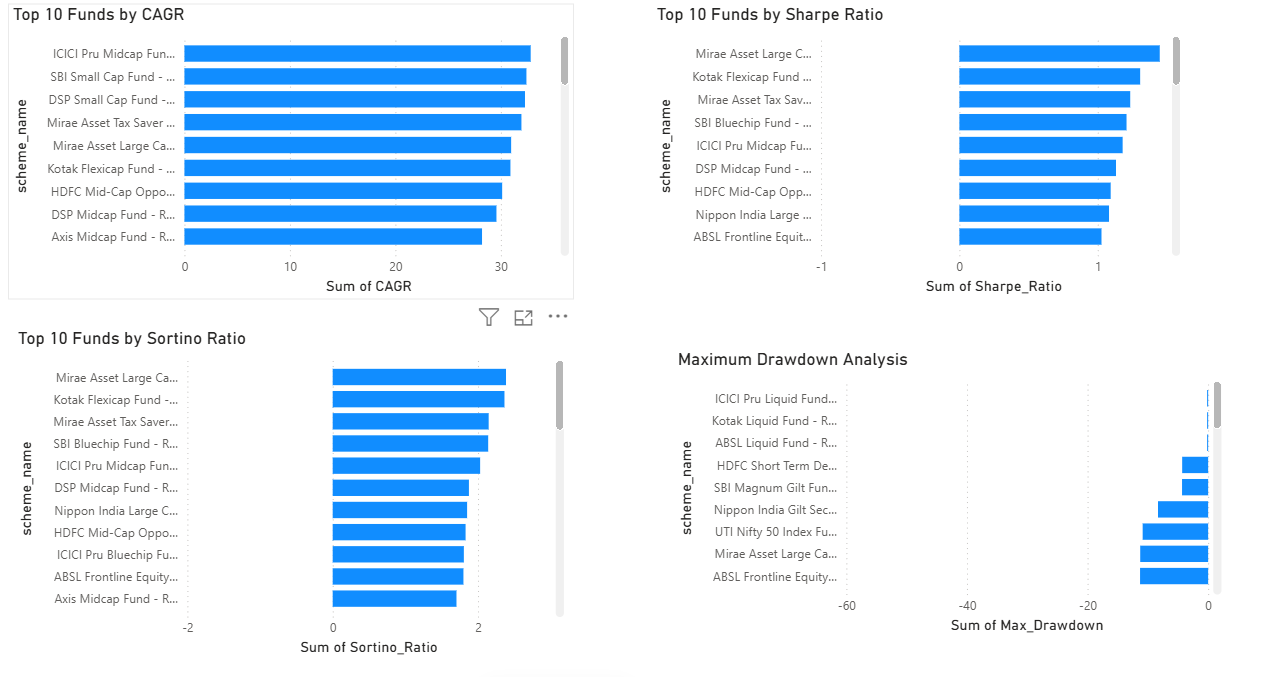

Layout of this report page (visuals, bound fields, positions):
{"tool":"powerbi","page":{"name":"Fund Performance","canvas":[1280,720],"ordinal":2},"visuals":[{"type":"clusteredBarChart","title":"Top 10 Funds by CAGR","fields":{"Category":["cagr_report.scheme_name"],"Y":["Sum(cagr_report.CAGR)"]},"box":[9.8,12.2,553.9,289.8],"z":0},{"type":"clusteredBarChart","title":"Top 10 Funds by Sharpe Ratio","fields":{"Category":["sharpe_report.scheme_name"],"Y":["Sum(sharpe_report.Sharpe_Ratio)"]},"box":[639.5,12.2,522.1,289.8],"z":1},{"type":"clusteredBarChart","title":"Top 10 Funds by Sortino Ratio","fields":{"Category":["sortino_report.scheme_name"],"Y":["Sum(sortino_report.Sortino_Ratio)"]},"box":[14.7,328.9,544.2,326.5],"z":2},{"type":"clusteredBarChart","title":"Maximum Drawdown Analysis","fields":{"Category":["max_drawdown_report.scheme_name"],"Y":["Sum(max_drawdown_report.Max_Drawdown)"]},"box":[660.3,349.7,541.7,283.7],"z":3}]}

Visuals, with their boxes on the page's 1280x720 design canvas (x1, y1, x2, y2). These are canvas units, not pixel positions in the 1270x677 screenshot, which may show the page scaled, cropped or inside an application window:
"Top 10 Funds by CAGR" clusteredBarChart: box(10, 12, 564, 302)
"Top 10 Funds by Sharpe Ratio" clusteredBarChart: box(640, 12, 1162, 302)
"Top 10 Funds by Sortino Ratio" clusteredBarChart: box(15, 329, 559, 655)
"Maximum Drawdown Analysis" clusteredBarChart: box(660, 350, 1202, 633)
